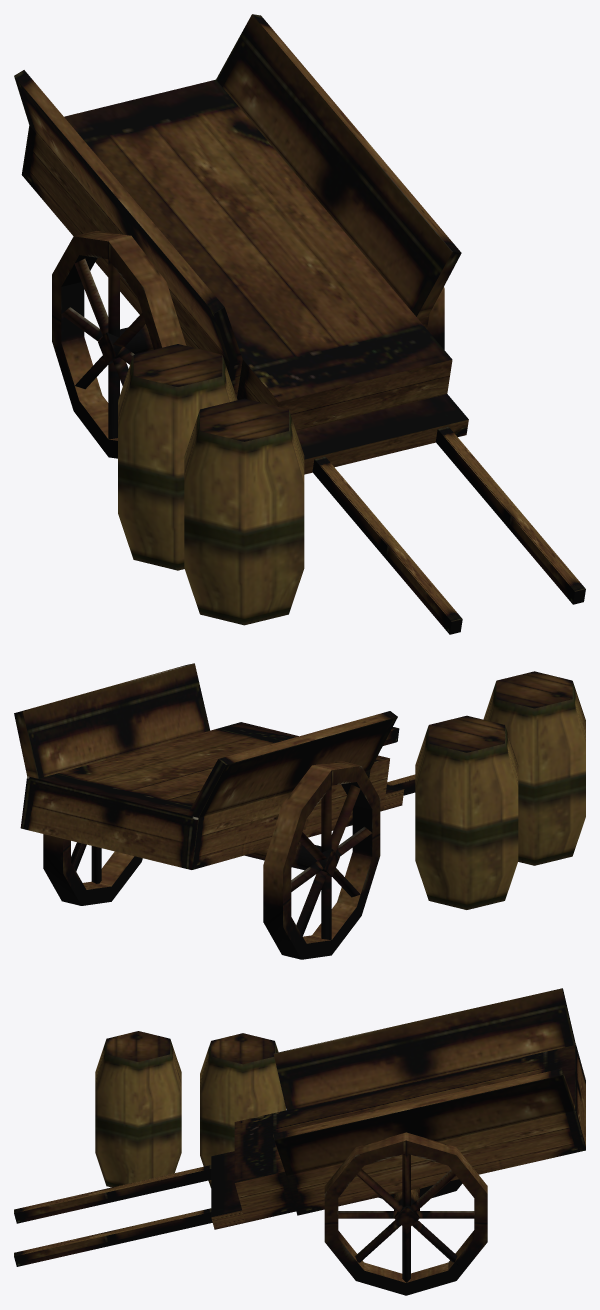
The model's file is Carriage03.glb.
3 views of the same model, one above another, from view 1: azimuth 30°, elevation 25°; view 2: azimuth 150°, elevation 25°; view 3: azimuth 270°, elevation 25° (orthographic). The views are drawn at different scales.
Parts seen in each view (by area): view 1: Carriage03; view 2: Carriage03; view 3: Carriage03.
Part boxes in pixels (<box>): Carriage03: <box>14,14,585,634</box>; Carriage03: <box>14,663,585,959</box>; Carriage03: <box>14,988,585,1295</box>.
Bounding box in the file's own units: 2.48 × 1.83 × 4.37.
2 materials, 2 textured.
